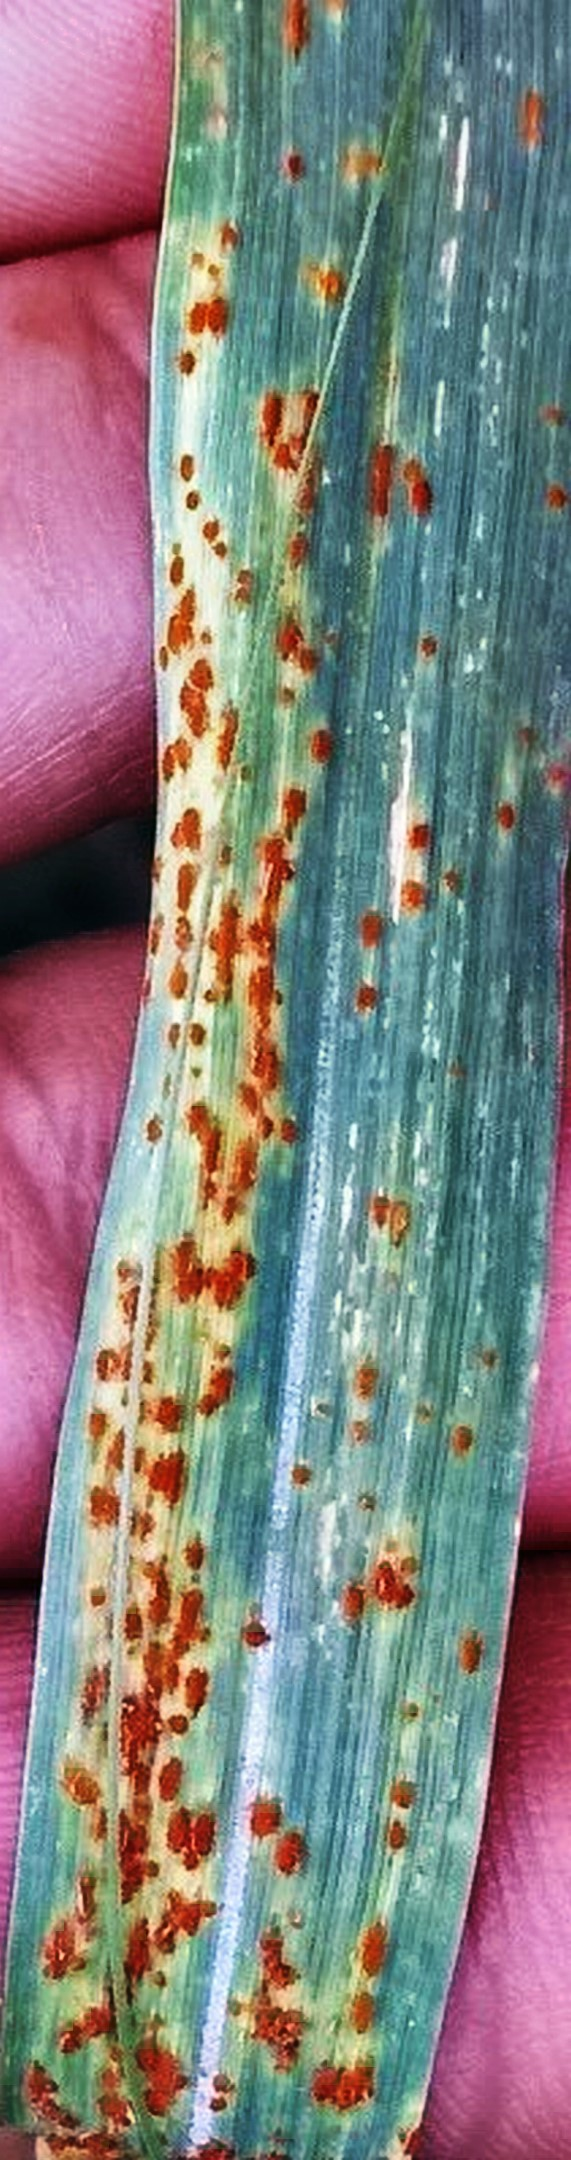Leaf Rust: (30, 196, 505, 2104)
